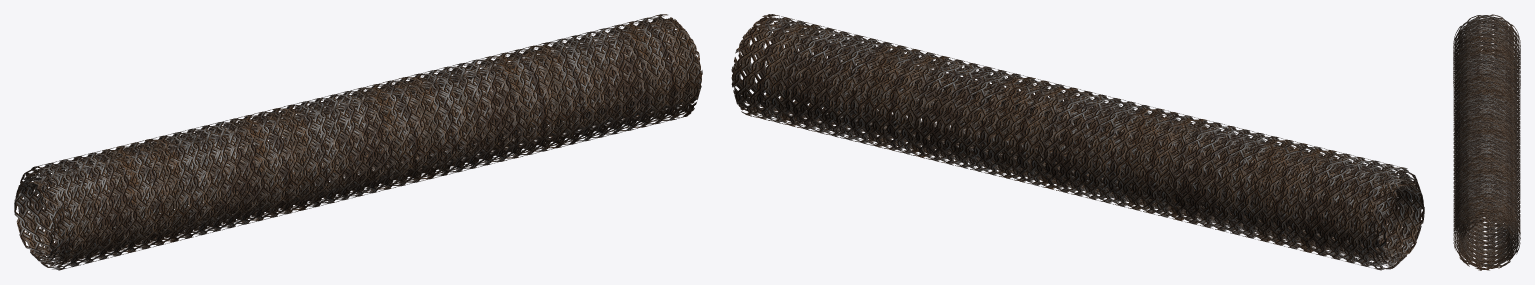
File: HJ_MKTS_011.FBX
3 renders of one model, left to right at view 1: azimuth 30°, elevation 25°; view 2: azimuth 150°, elevation 25°; view 3: azimuth 270°, elevation 25°, orthographic. The views are drawn at different scales.
Visible parts, largest first — view 1: HJ_MKTS_011; view 2: HJ_MKTS_011; view 3: HJ_MKTS_011.
Part boxes in pixels (x1,y1,x2,y2): HJ_MKTS_011: (14,14,702,270); HJ_MKTS_011: (731,14,1424,270); HJ_MKTS_011: (1453,14,1520,270).
Bounding box in the file's own units: 2.75 × 0.3875 × 0.3851.
Materials: 1 (1 with a texture image).
